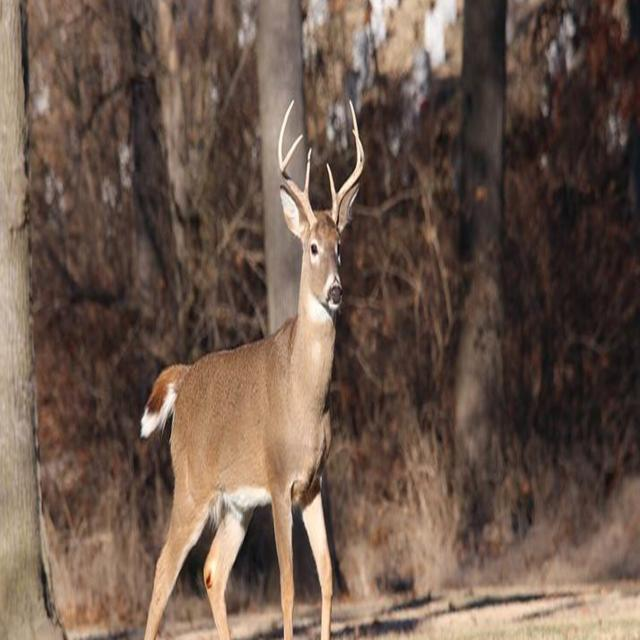deer: (141, 100, 365, 639)
